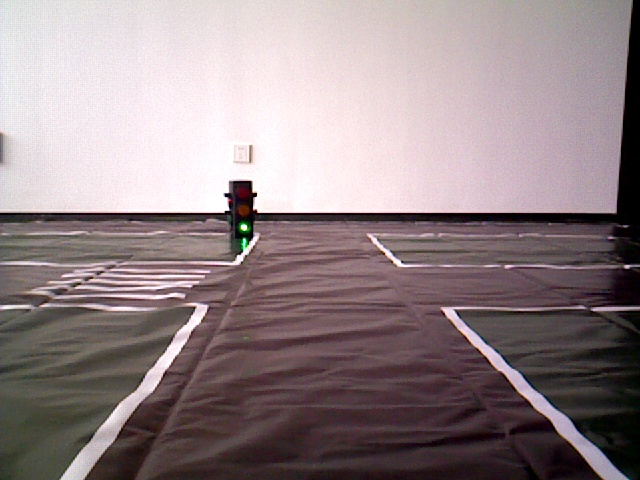green: (227, 183, 254, 233)
